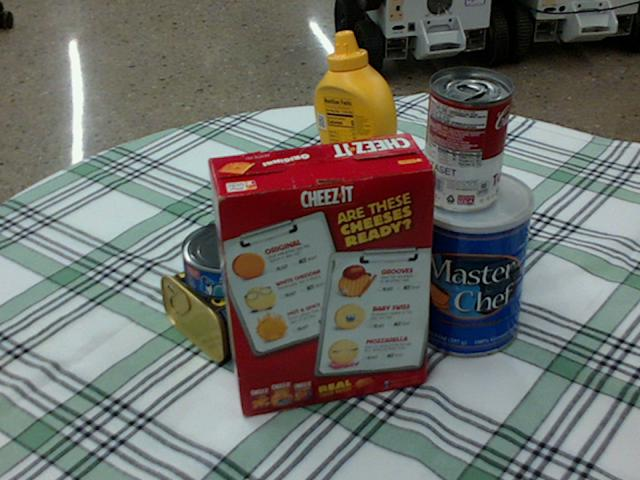cracker_box: (205, 133, 433, 414)
gelatin_box: (298, 176, 394, 247)
master_chef_can: (409, 166, 534, 356)
mug: (272, 213, 372, 330)
mustard_bottle: (313, 32, 407, 225)
potted_meat_can: (162, 250, 295, 361)
sugar_box: (348, 179, 527, 301)
tomato_soup_can: (421, 67, 510, 211)
tuna_fish_can: (181, 220, 276, 300)
